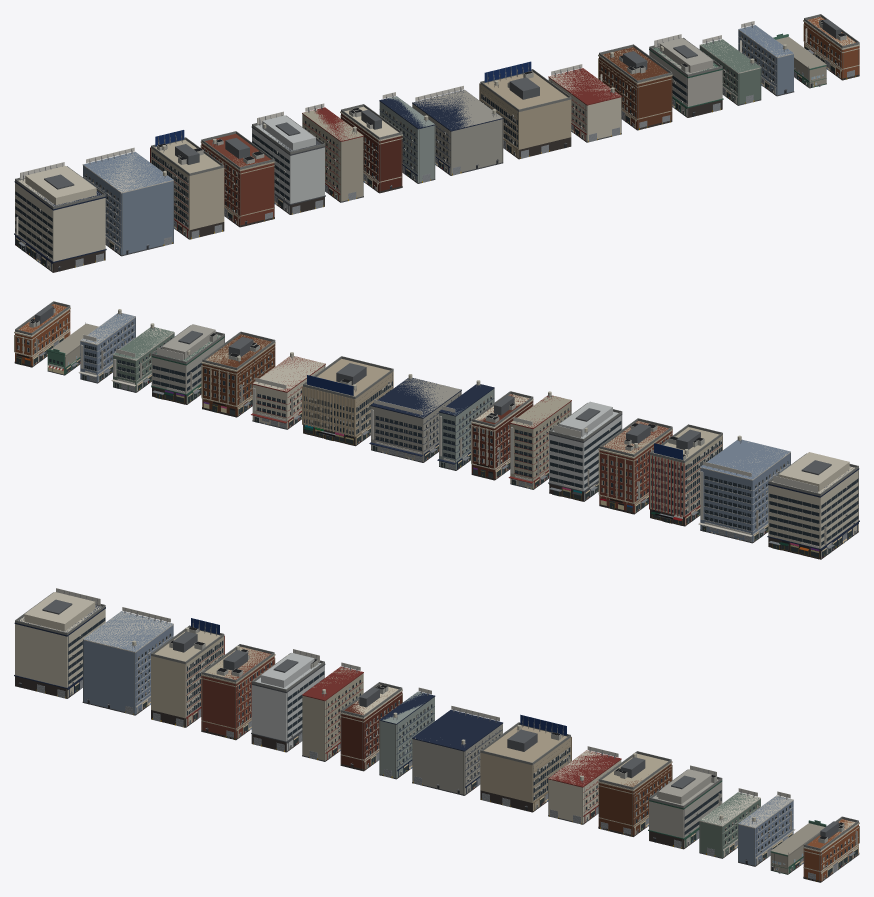
Rendered from wholesale.glb.
The picture shows the model from 3 angles, top to bottom: view 1: azimuth 30°, elevation 25°; view 2: azimuth 150°, elevation 25°; view 3: azimuth 330°, elevation 25°; orthographic projection.
Visible parts, largest first — view 1: wholesale_m27_body, wholesale_m27b_body, wholesale_b27b_body, wholesale_b27_body, wholesale_m18a_body, wholesale_m18c_body, wholesale_m18b_body, wholesale_b18b_body, wholesale_b18c_body, wholesale_m12_body, wholesale_b18a_body, wholesale_m12b_body (+5 smaller); view 2: wholesale_m27_body, wholesale_m27b_body, wholesale_b27b_body, wholesale_b27_body, wholesale_m18a_body, wholesale_m18c_body, wholesale_m18b_body, wholesale_b18b_body, wholesale_b18c_body, wholesale_m12_body, wholesale_b18a_body, wholesale_m12b_body (+5 smaller); view 3: wholesale_m27_body, wholesale_m27b_body, wholesale_b27b_body, wholesale_b27_body, wholesale_m18a_body, wholesale_m18c_body, wholesale_m18b_body, wholesale_b18b_body, wholesale_b18c_body, wholesale_m12_body, wholesale_b18a_body, wholesale_m12b_body (+5 smaller).
Boxes of the visible parts, box(x1,y1,x2,y2) form: wholesale_m27_body: box(14, 162, 106, 272); wholesale_m27b_body: box(82, 147, 173, 256); wholesale_b27b_body: box(479, 61, 571, 159); wholesale_b27_body: box(412, 85, 503, 175); wholesale_m18a_body: box(150, 130, 224, 239); wholesale_m18c_body: box(251, 111, 325, 214); wholesale_m18b_body: box(200, 131, 275, 227); wholesale_b18b_body: box(598, 44, 672, 130); wholesale_b18c_body: box(649, 34, 723, 117); wholesale_m12_body: box(302, 103, 363, 202); wholesale_b18a_body: box(548, 64, 621, 142); wholesale_m12b_body: box(340, 104, 402, 193); wholesale_m27_body: box(767, 452, 859, 559); wholesale_m27b_body: box(698, 435, 790, 543); wholesale_b27b_body: box(302, 356, 393, 446); wholesale_b27_body: box(369, 374, 461, 462); wholesale_m18a_body: box(649, 424, 722, 526); wholesale_m18c_body: box(548, 401, 622, 501); wholesale_m18b_body: box(598, 418, 672, 514); wholesale_b18b_body: box(201, 331, 275, 417); wholesale_b18c_body: box(151, 324, 224, 404); wholesale_m12_body: box(508, 391, 571, 489); wholesale_b18a_body: box(251, 352, 325, 429); wholesale_m12b_body: box(471, 391, 533, 480); wholesale_m27_body: box(14, 588, 105, 698); wholesale_m27b_body: box(82, 607, 173, 715); wholesale_b27b_body: box(480, 714, 571, 812); wholesale_b27_body: box(412, 705, 502, 795); wholesale_m18a_body: box(151, 618, 224, 727); wholesale_m18c_body: box(251, 649, 325, 752); wholesale_m18b_body: box(201, 644, 275, 740); wholesale_b18b_body: box(598, 751, 672, 836); wholesale_b18c_body: box(648, 765, 722, 849); wholesale_m12_body: box(302, 662, 363, 761); wholesale_b18a_body: box(548, 746, 621, 824); wholesale_m12b_body: box(340, 682, 402, 771).
Bounding box in the file's own units: 414 × 36.5 × 37.37.
